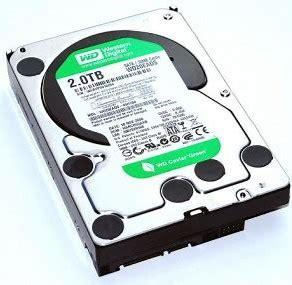internal HDD: (5, 8, 292, 278)
